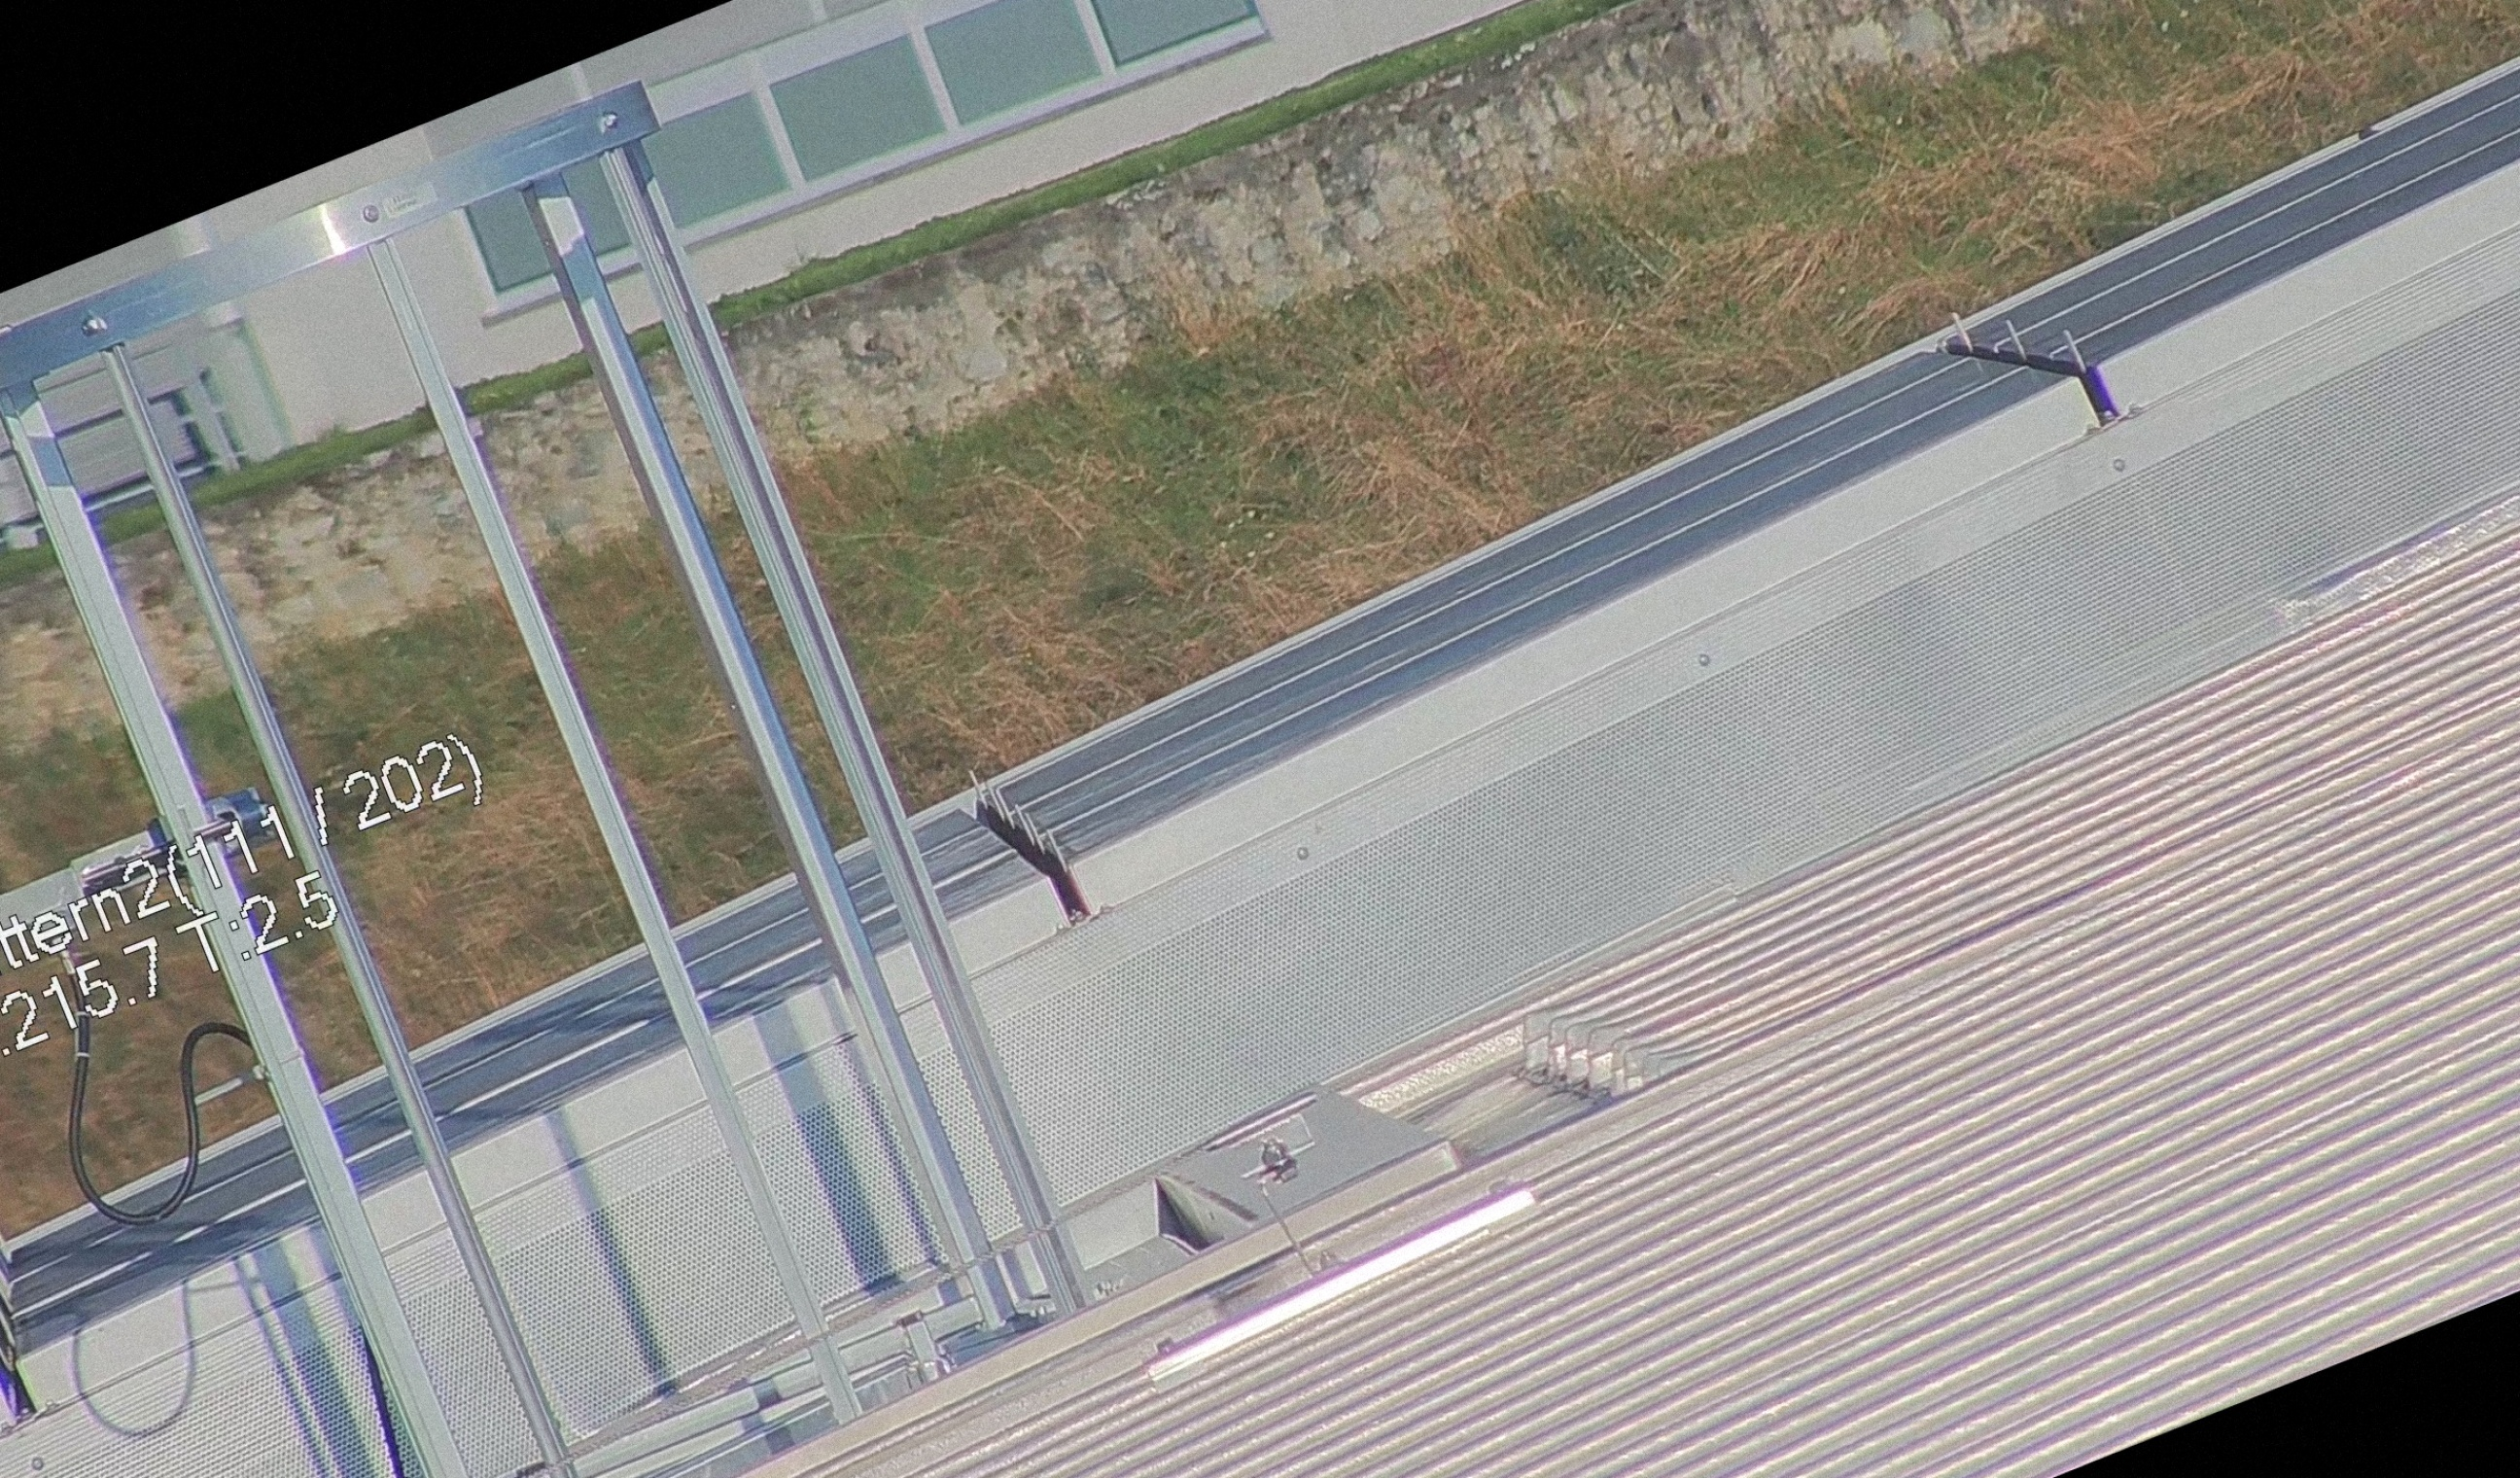Other: (930, 734, 1118, 966)
